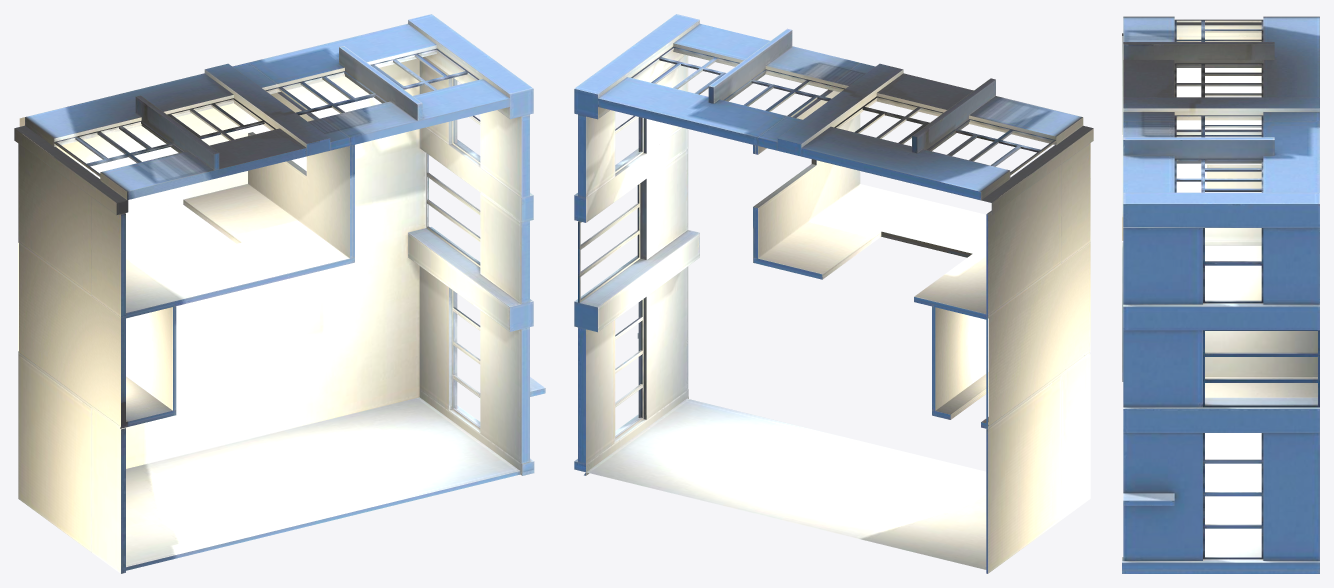
3 views of the same model, side by side, from view 1: azimuth 30°, elevation 25°; view 2: azimuth 150°, elevation 25°; view 3: azimuth 270°, elevation 25° (orthographic). The views are drawn at different scales.
Visible parts, largest first — view 1: hc_1floor_room022_3, hc_1floor_room024_1, hc_1floor_room023_2; view 2: hc_1floor_room022_3, hc_1floor_room024_1, hc_1floor_room023_2; view 3: hc_1floor_room022_3, hc_1floor_room024_1.
Boxes of the visible parts, bbox=[...] form: hc_1floor_room022_3: bbox=[18, 14, 545, 573]; hc_1floor_room024_1: bbox=[14, 62, 352, 317]; hc_1floor_room023_2: bbox=[18, 243, 174, 427]; hc_1floor_room022_3: bbox=[574, 14, 1090, 573]; hc_1floor_room024_1: bbox=[755, 63, 1093, 317]; hc_1floor_room023_2: bbox=[933, 242, 1090, 426]; hc_1floor_room022_3: bbox=[1122, 121, 1319, 573]; hc_1floor_room024_1: bbox=[1122, 16, 1319, 167].
Bounding box in the file's own units: 1.01 × 0.8944 × 0.42.
